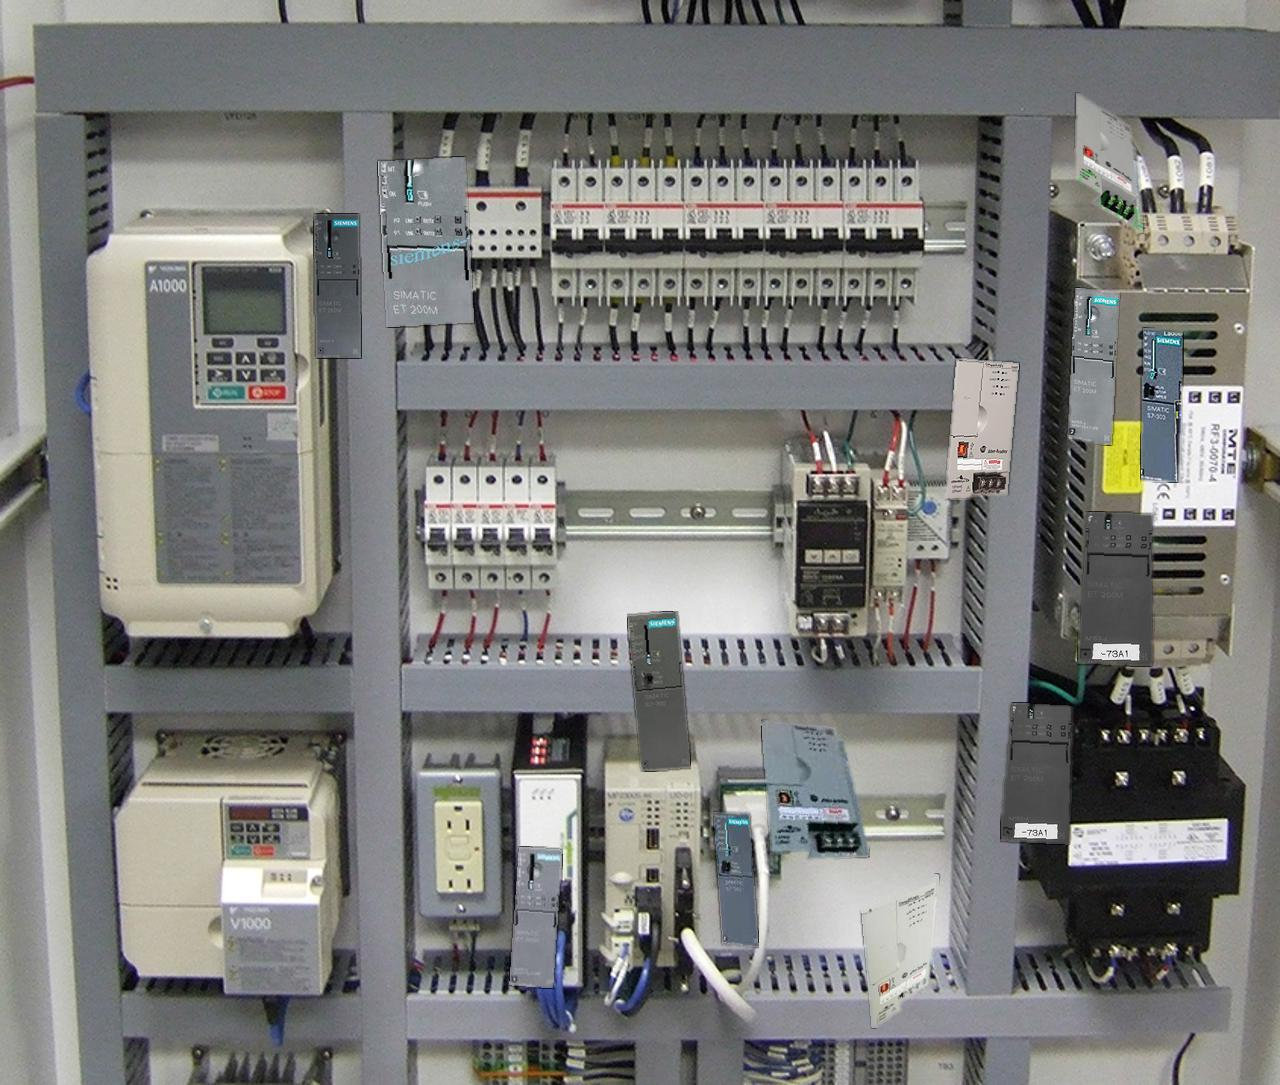AllenBradley: (761, 720, 869, 858), (861, 874, 938, 1027), (946, 360, 1018, 499), (1075, 93, 1142, 232)
Siemens: (627, 611, 690, 771), (1141, 328, 1182, 481), (714, 812, 758, 946)
